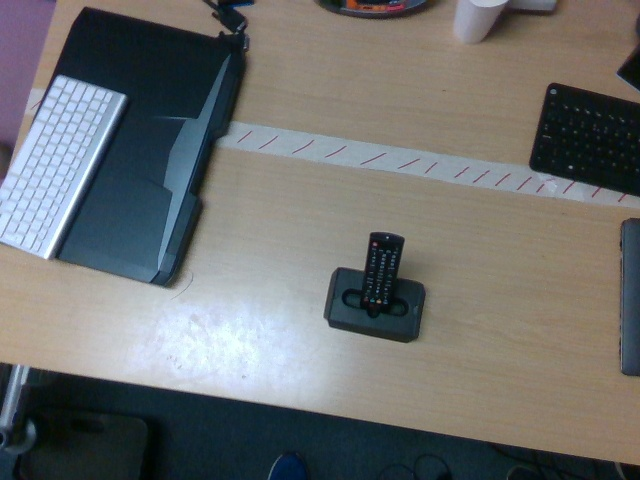remote: (360, 232, 405, 313)
